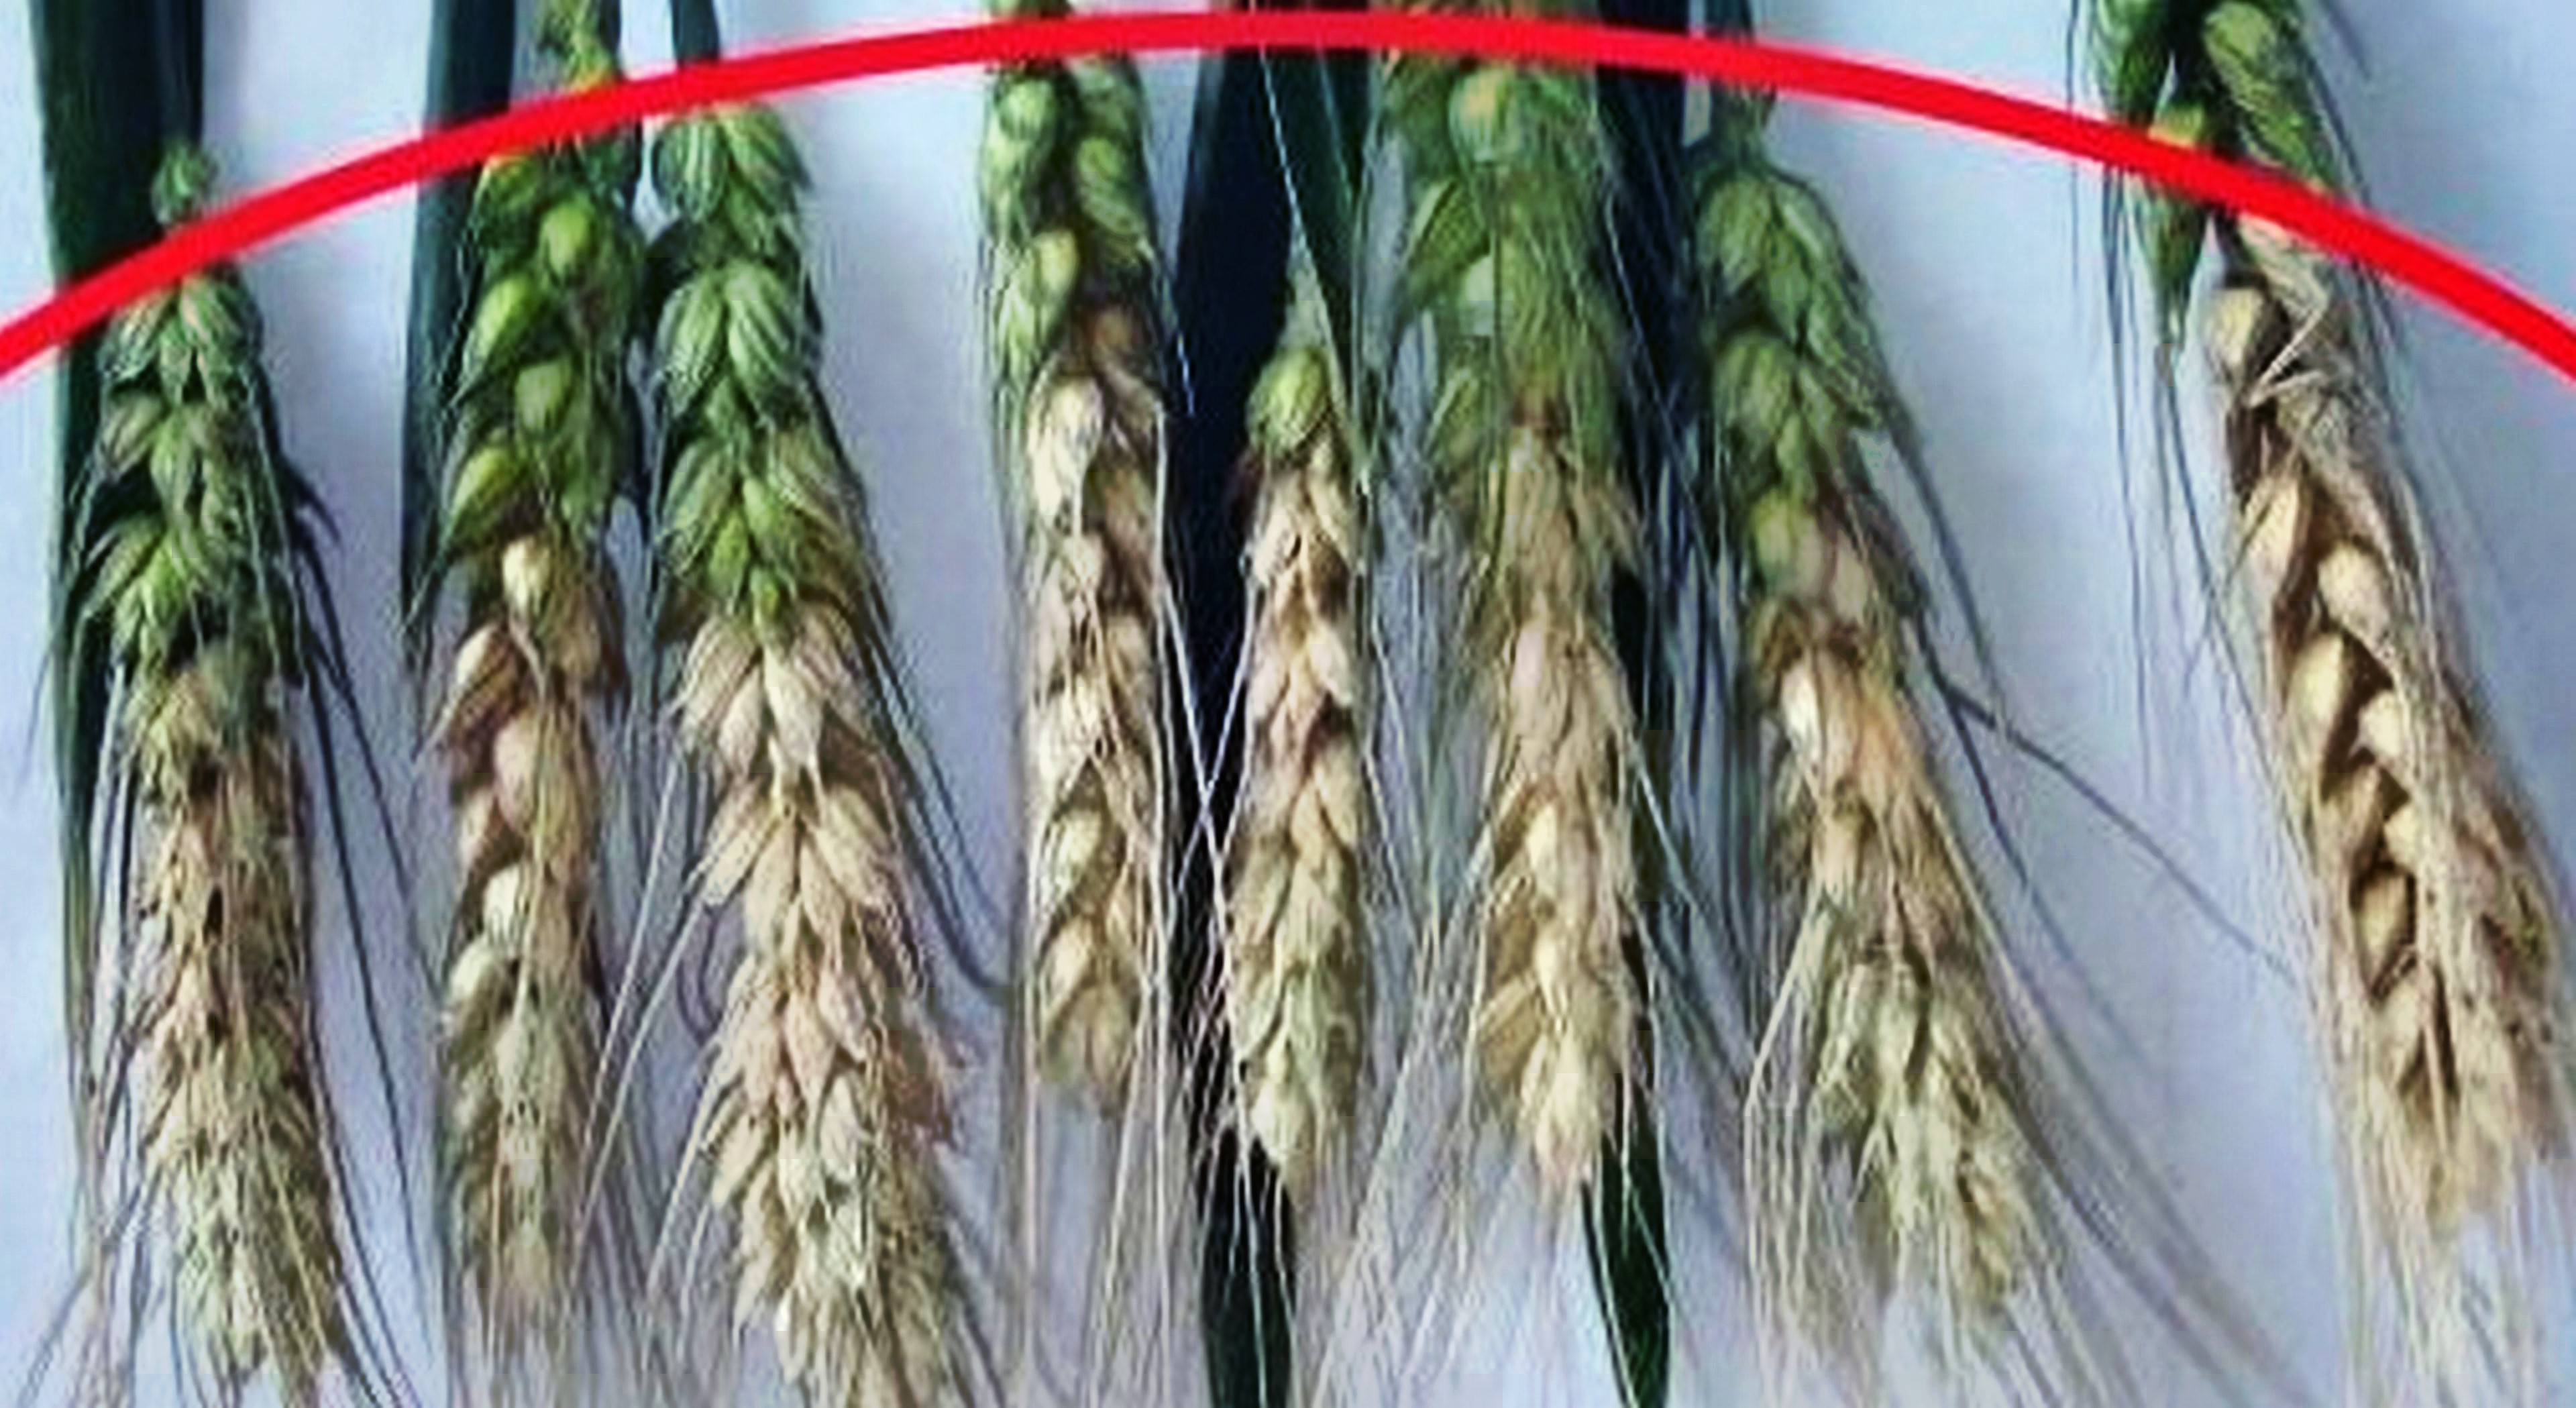Wheat scab: (2096, 23, 2576, 1186), (1697, 108, 2054, 1268), (648, 101, 952, 1321), (71, 163, 374, 1379), (1399, 24, 1683, 1212), (392, 28, 638, 1313), (983, 49, 1265, 1099)
